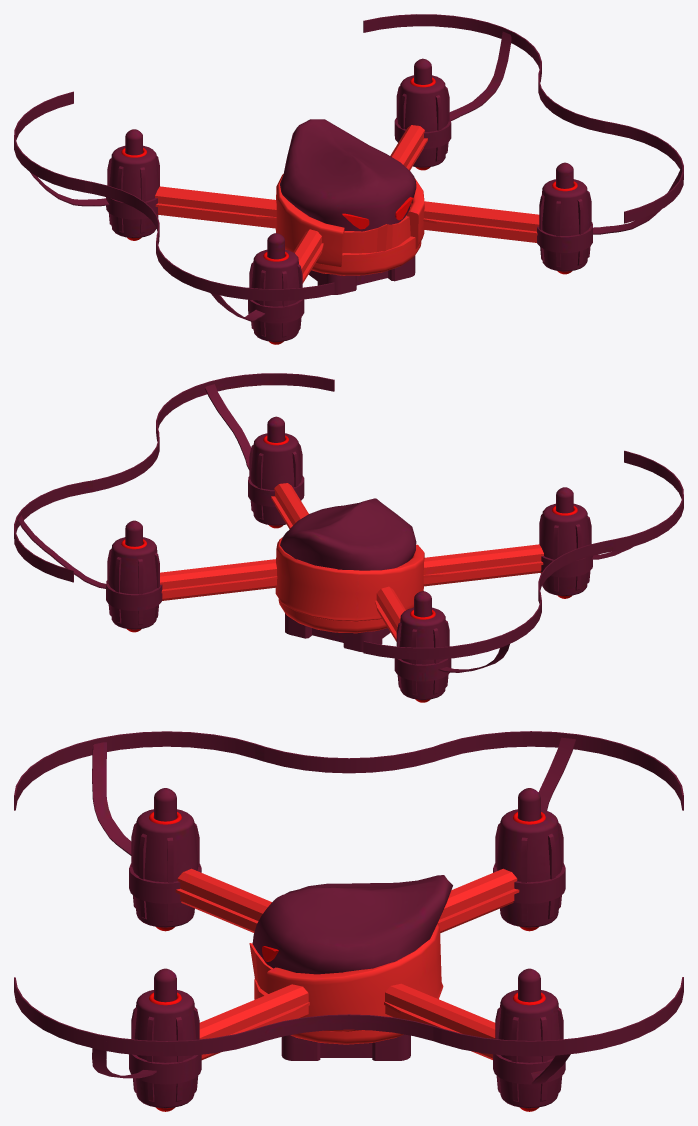
File: Qudrocopter_Body.fbx
3 views of the same model, one above another, from view 1: azimuth 30°, elevation 25°; view 2: azimuth 150°, elevation 25°; view 3: azimuth 270°, elevation 25° (orthographic). The views are drawn at different scales.
Visible parts, largest first — view 1: Qudrocopter_Body; view 2: Qudrocopter_Body; view 3: Qudrocopter_Body.
Boxes of the visible parts, x1,y1,x2,y2 form: Qudrocopter_Body: (14, 14, 683, 344); Qudrocopter_Body: (14, 373, 683, 702); Qudrocopter_Body: (14, 731, 683, 1111).
Bounding box in the file's own units: 74.68 × 17.37 × 68.09.
